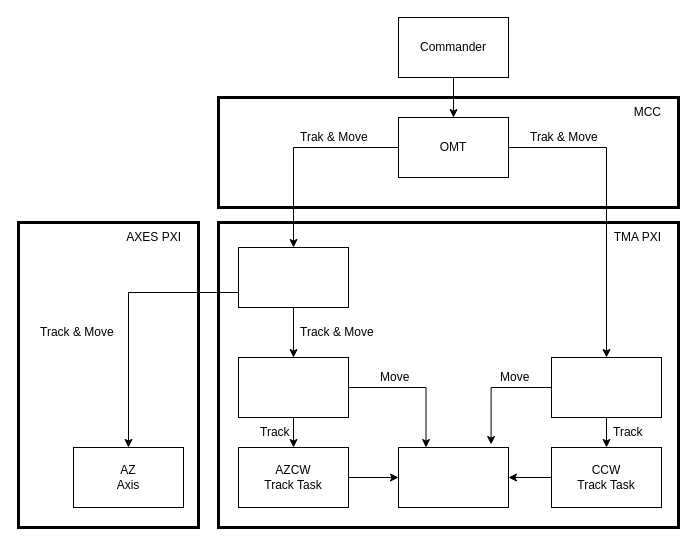
Some shapes in this 697 by 546 pixel diagram are drawn without their labels. Each missing label, with the centre of its shape:
AZ OMT: pixel 293 277
AZCW OMT: pixel 293 387
Bosch Task: pixel 453 477
CCW OMT: pixel 606 387
